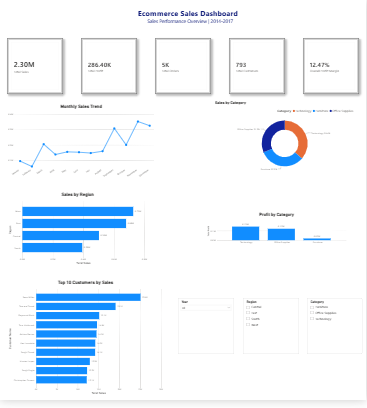

The dashboard page shown, as its layout file describes it:
{"tool":"powerbi","page":{"name":"Page 1","canvas":[1830,1800],"ordinal":0},"visuals":[{"type":"cardVisual","fields":{"Data":["superstore_cleaned.Total Sales"]},"box":[34,188,280,280],"z":0},{"type":"cardVisual","fields":{"Data":["superstore_cleaned.Total Profit"]},"box":[404.5,188,280,280],"z":1},{"type":"cardVisual","fields":{"Data":["superstore_cleaned.Total Orders"]},"box":[775,188,280,280],"z":2},{"type":"cardVisual","fields":{"Data":["superstore_cleaned.Total Customers"]},"box":[1145.5,188,280,280],"z":3},{"type":"cardVisual","fields":{"Data":["superstore_cleaned.Overall Profit Margin"]},"box":[1516,188,280,280],"z":4},{"type":"lineChart","title":"Monthly Sales Trend","fields":{"Y":["superstore_cleaned.Total Sales"],"Category":["superstore_cleaned.Month Name"]},"box":[34,518,644,352],"z":5},{"type":"donutChart","title":"Sales by Category","fields":{"Category":["superstore_cleaned.Category"],"Y":["superstore_cleaned.Total Sales"]},"box":[1068,500,707,369],"z":6},{"type":"clusteredBarChart","title":"Sales by Region","fields":{"Category":["superstore_cleaned.Region"],"Y":["superstore_cleaned.Total Sales"]},"box":[34,962,707,369],"z":7},{"type":"clusteredColumnChart","title":"Profit by Category","fields":{"Category":["superstore_cleaned.Category"],"Y":["superstore_cleaned.Total Profit"]},"box":[1028,1060,707,171],"z":8},{"type":"clusteredBarChart","title":"Top 10 Customers by Sales","fields":{"Category":["superstore_cleaned.Customer Name"],"Y":["superstore_cleaned.Total Sales"]},"box":[34,1400,707,369],"z":9},{"type":"slicer","fields":{"Values":["superstore_cleaned.Year"]},"box":[888,1490,280,280],"z":10},{"type":"slicer","fields":{"Values":["superstore_cleaned.Region"]},"box":[1216,1490,280,280],"z":11},{"type":"slicer","fields":{"Values":["superstore_cleaned.Category"]},"box":[1534,1490,276,280],"z":12},{"type":"textbox","box":[684,0,532,188],"z":13}]}

Visuals, with their boxes on the page's 1830x1800 design canvas (x1, y1, x2, y2). These are canvas units, not pixel positions in the 367x408 screenshot, which may show the page scaled, cropped or inside an application window:
cardVisual - superstore_cleaned.Total Sales: l=34, t=188, r=314, b=468
cardVisual - superstore_cleaned.Total Profit: l=404, t=188, r=684, b=468
cardVisual - superstore_cleaned.Total Orders: l=775, t=188, r=1055, b=468
cardVisual - superstore_cleaned.Total Customers: l=1146, t=188, r=1426, b=468
cardVisual - superstore_cleaned.Overall Profit Margin: l=1516, t=188, r=1796, b=468
"Monthly Sales Trend" lineChart: l=34, t=518, r=678, b=870
"Sales by Category" donutChart: l=1068, t=500, r=1775, b=869
"Sales by Region" clusteredBarChart: l=34, t=962, r=741, b=1331
"Profit by Category" clusteredColumnChart: l=1028, t=1060, r=1735, b=1231
"Top 10 Customers by Sales" clusteredBarChart: l=34, t=1400, r=741, b=1769
slicer - superstore_cleaned.Year: l=888, t=1490, r=1168, b=1770
slicer - superstore_cleaned.Region: l=1216, t=1490, r=1496, b=1770
slicer - superstore_cleaned.Category: l=1534, t=1490, r=1810, b=1770
textbox: l=684, t=0, r=1216, b=188
